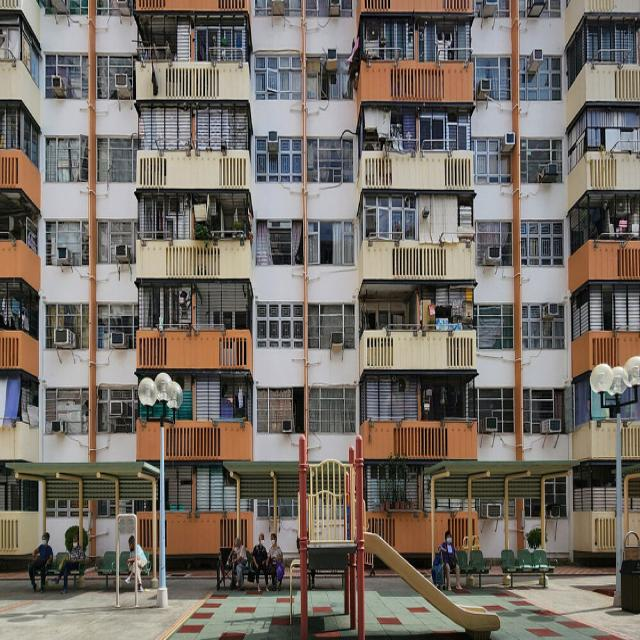Partially_opened: (255, 55, 302, 99), (45, 135, 86, 181)
closed: (307, 220, 354, 265), (257, 304, 302, 346)
